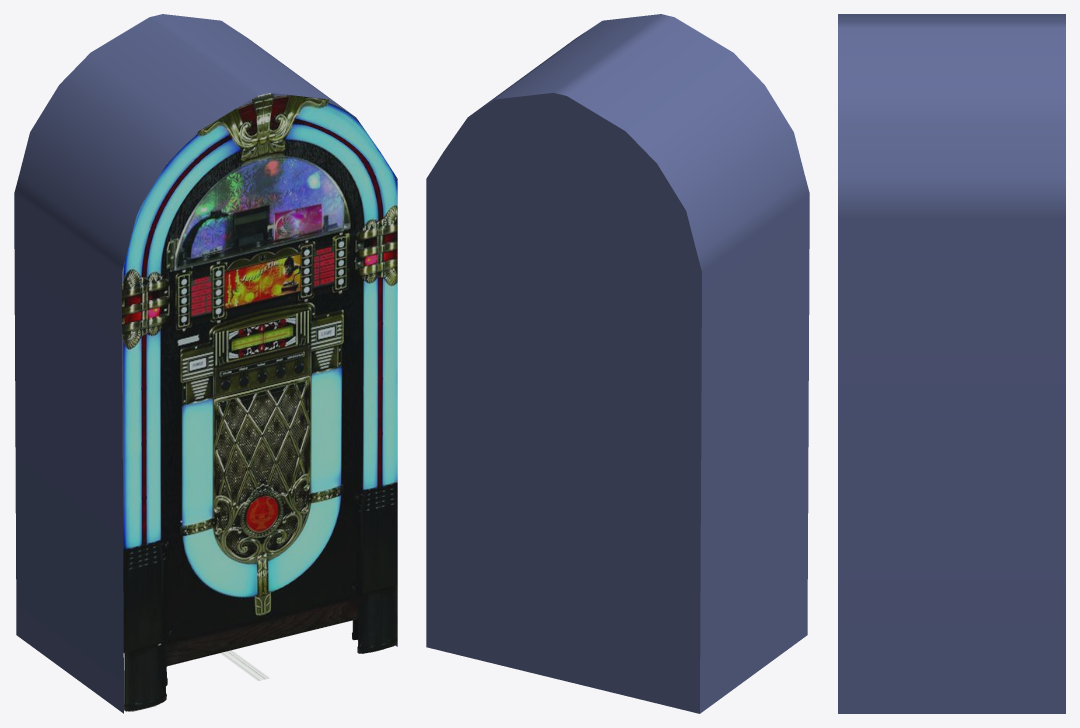
The model's file is Jukebox.fbx.
3 renders of one model, left to right at view 1: azimuth 30°, elevation 25°; view 2: azimuth 150°, elevation 25°; view 3: azimuth 270°, elevation 25°, orthographic. The views are drawn at different scales.
Parts seen in each view (by area): view 1: Jukebox; view 2: Jukebox; view 3: Jukebox.
Part boxes in pixels (bbox=[...]): Jukebox: bbox=[14, 14, 397, 713]; Jukebox: bbox=[426, 14, 809, 713]; Jukebox: bbox=[838, 14, 1065, 713].
Size of the model in its own units: 59.18 by 120 by 40.
Materials: 2 (1 with a texture image).
